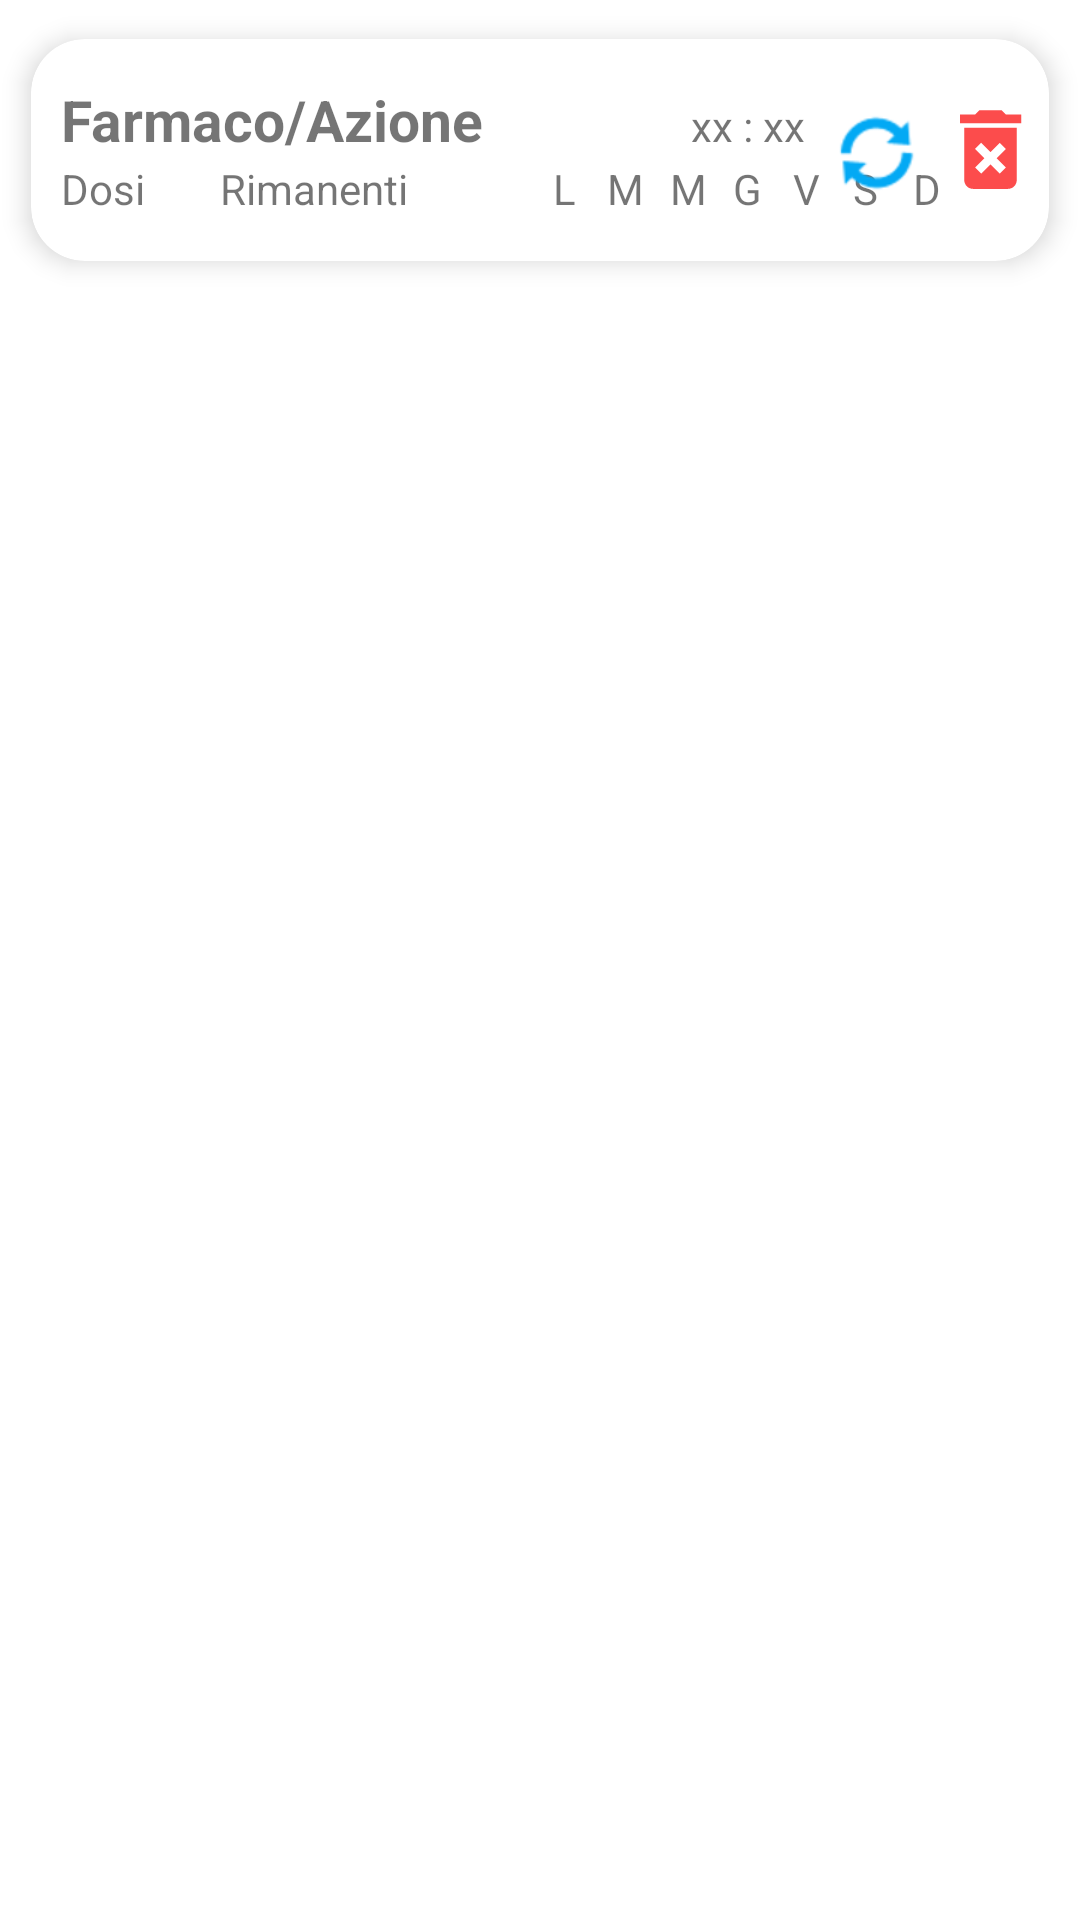

Icons on this 1080w x 1920h Android screen, each with its box as (x1, y1, x2, y2):
delete forever: (960, 110, 1022, 189)
popup sync: (840, 117, 914, 205)
